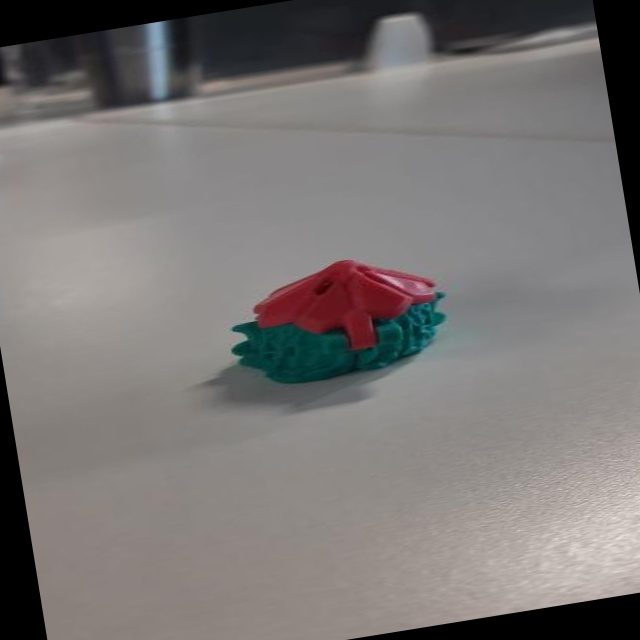House: (206, 237, 466, 398)
